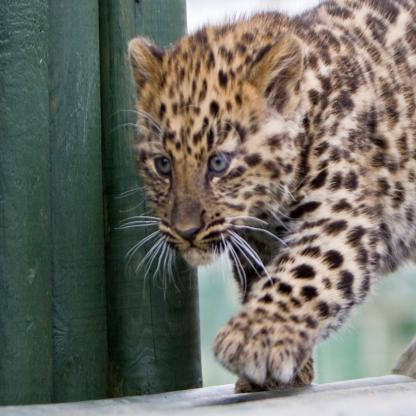leopard: (124, 29, 311, 272)
